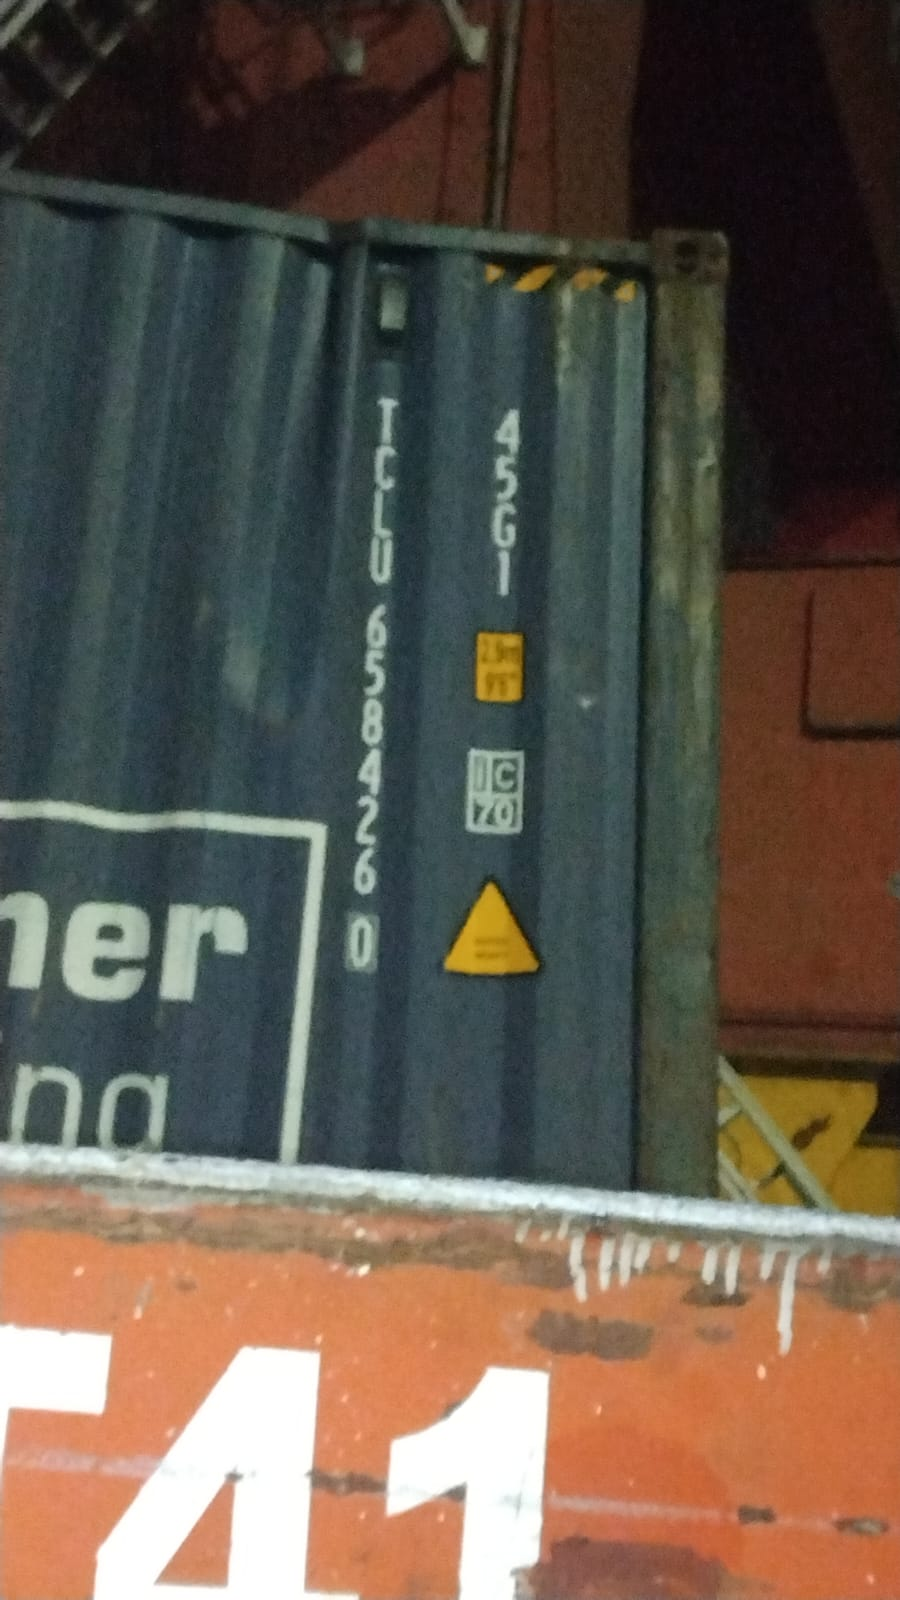bulged: (216, 193, 370, 762)
